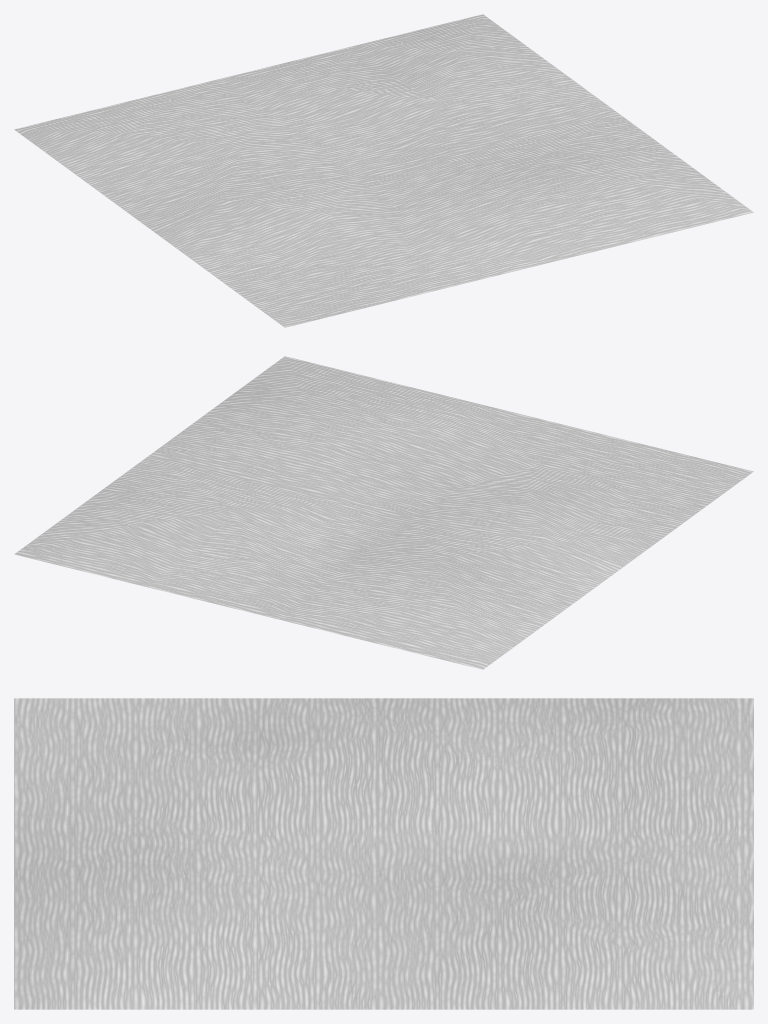
The model's file is Floor_Export_Test.fbx.
3 renders of one model, top to bottom at view 1: azimuth 30°, elevation 25°; view 2: azimuth 150°, elevation 25°; view 3: azimuth 270°, elevation 25°, orthographic. The views are drawn at different scales.
Visible parts, largest first — view 1: FloorTest; view 2: FloorTest; view 3: FloorTest.
Part boxes in pixels (<box>): FloorTest: <box>14,14,753,327</box>; FloorTest: <box>14,356,753,669</box>; FloorTest: <box>14,698,753,1009</box>.
Size of the model in its own units: 681 by 17.71 by 681.
